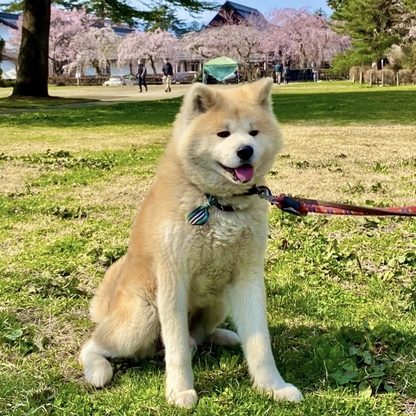akita: (73, 72, 316, 416)
